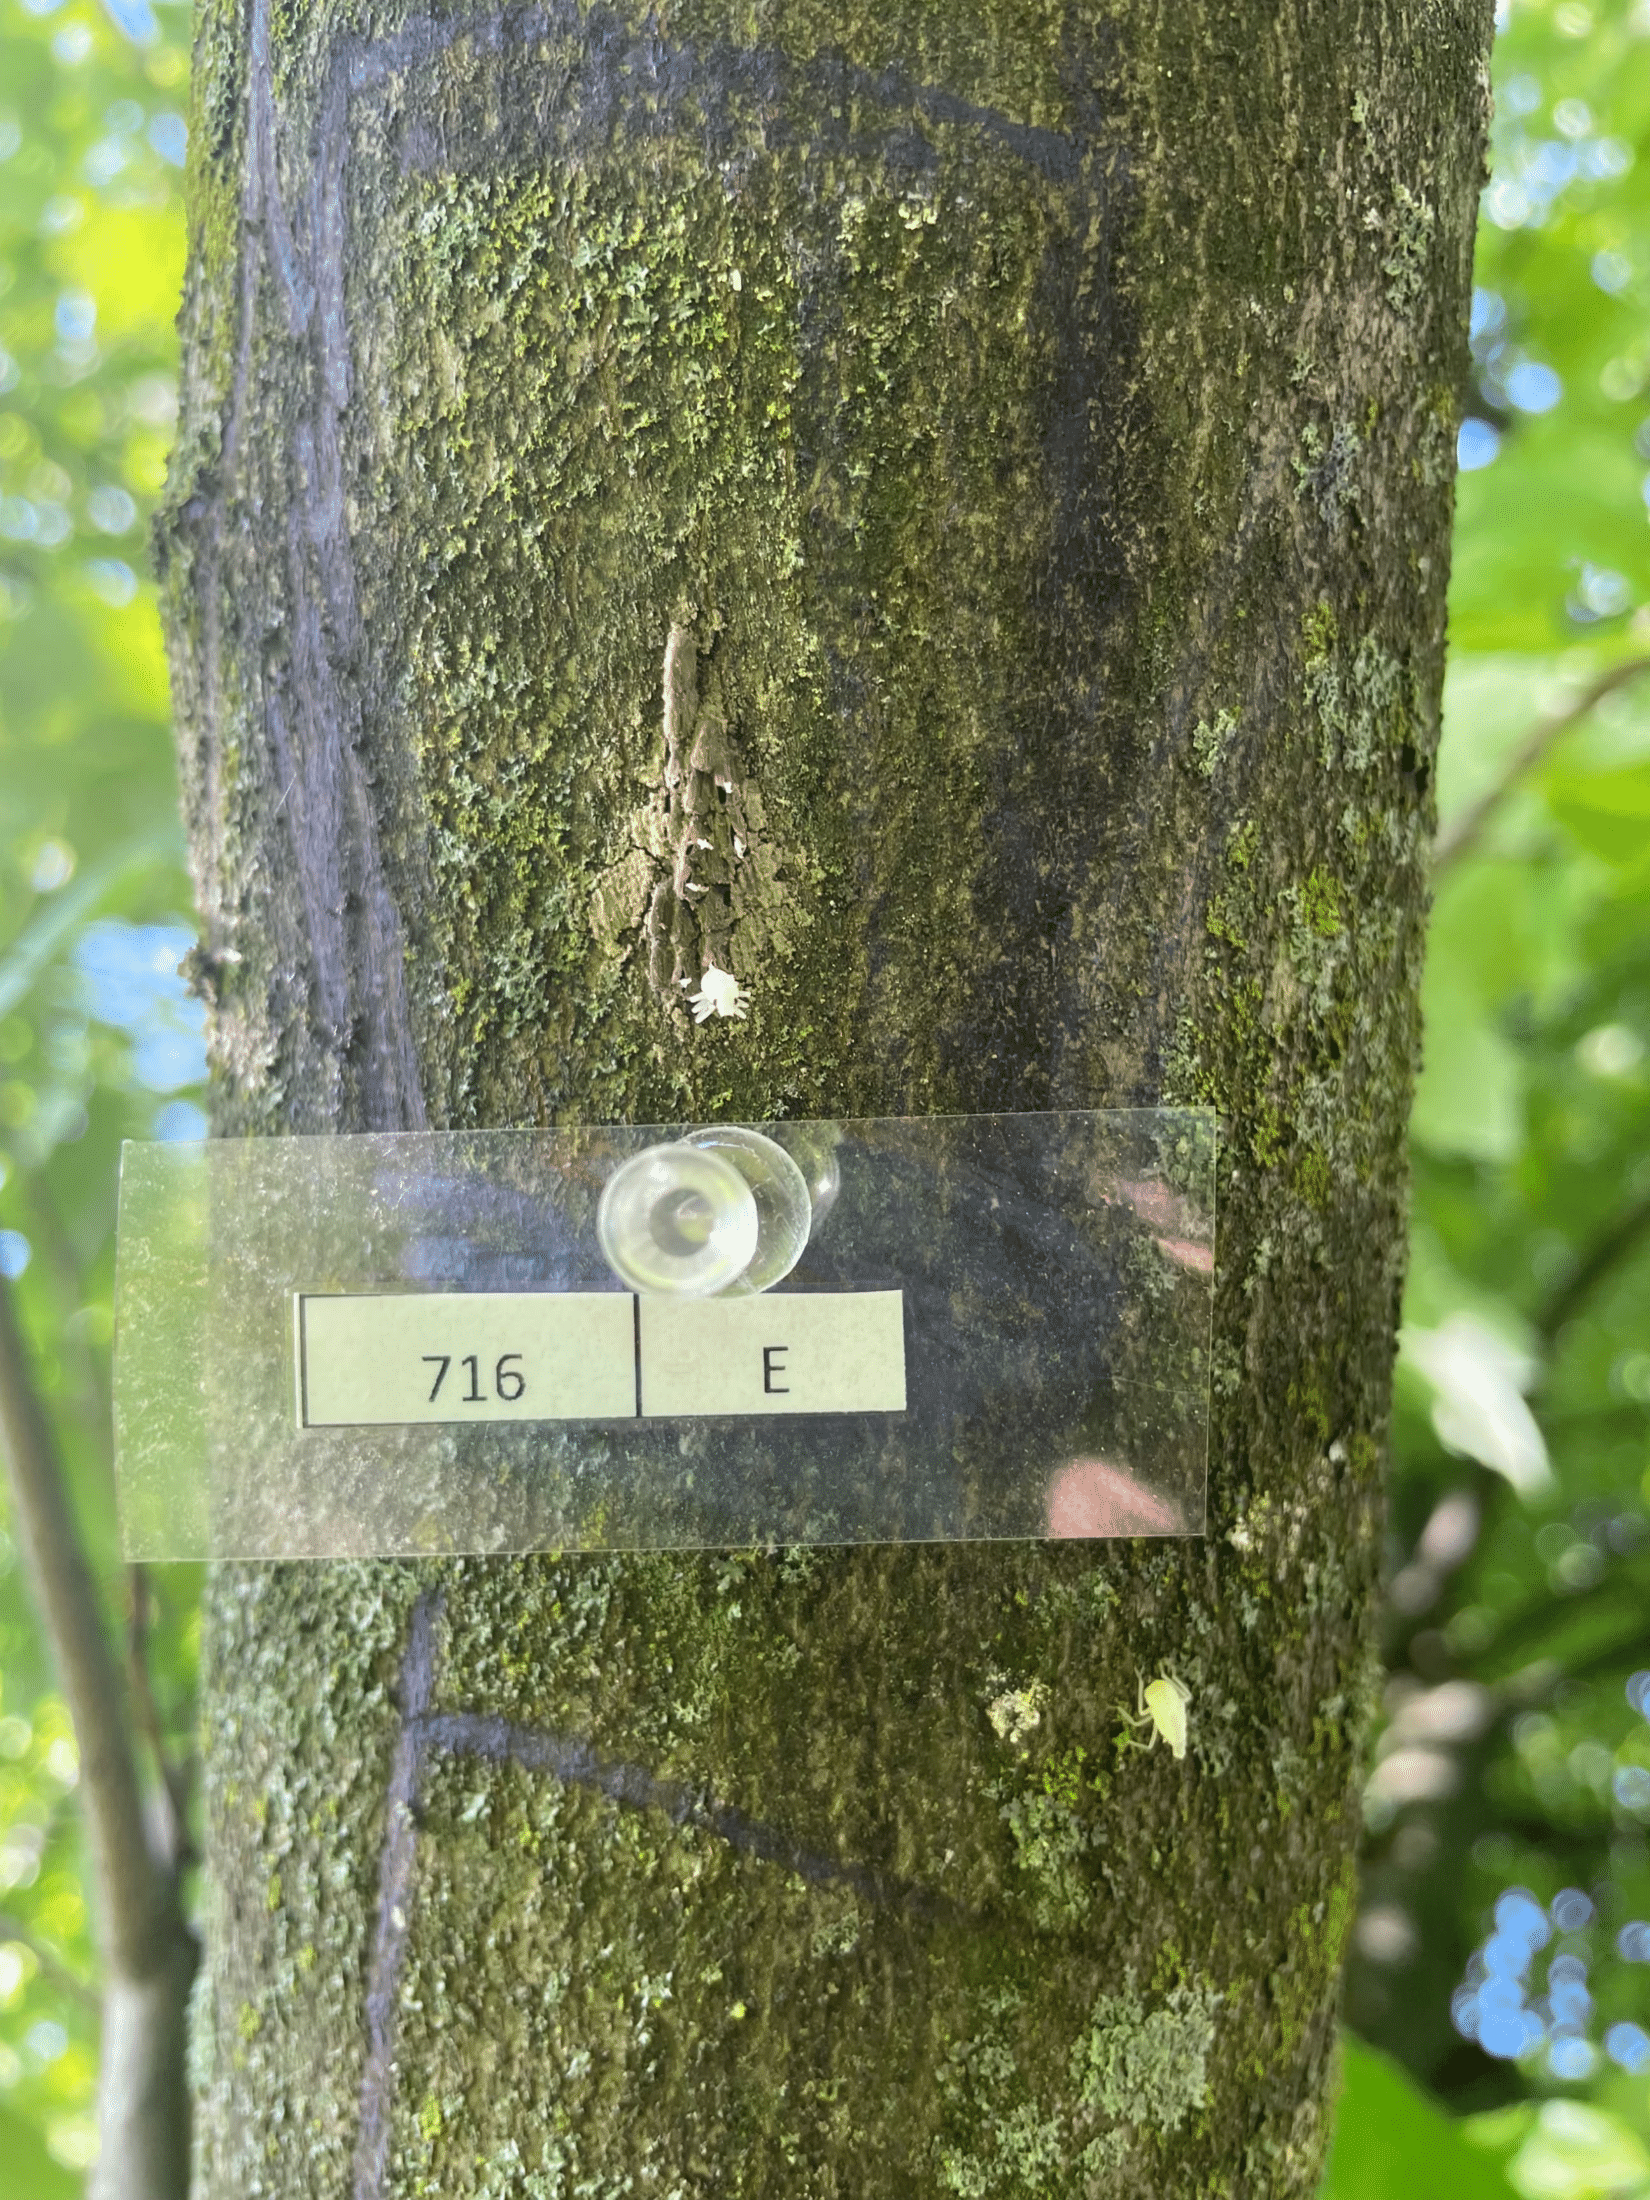egg masses: (655, 592, 730, 974), (1128, 1649, 1194, 1765)
